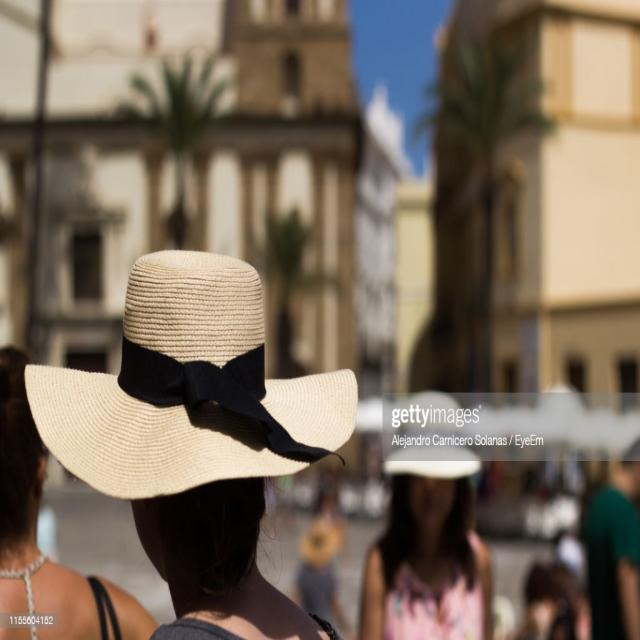hat: (25, 249, 357, 595)
